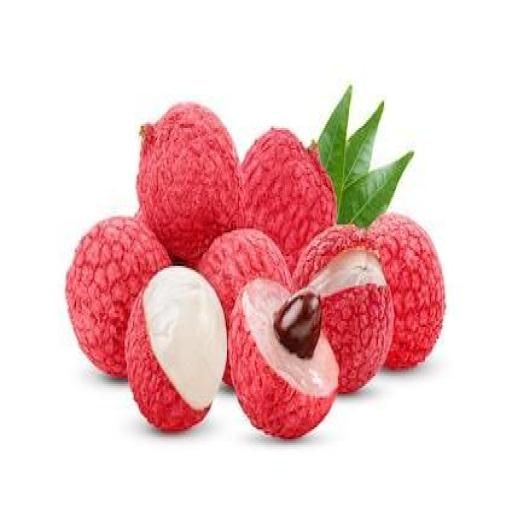lychee: (230, 280, 338, 439), (66, 217, 170, 378), (126, 266, 227, 431), (137, 103, 241, 263), (294, 227, 393, 393), (242, 128, 336, 271), (369, 215, 445, 368), (199, 229, 291, 322)
